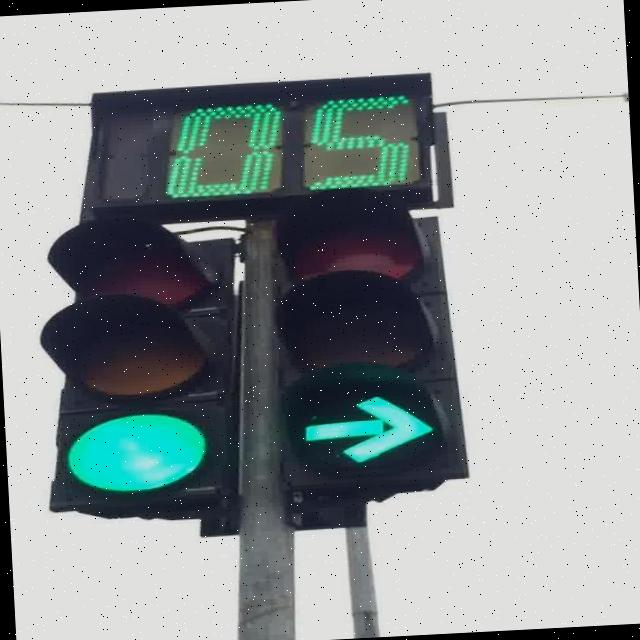green_light: (257, 182, 469, 490), (32, 209, 246, 510)
